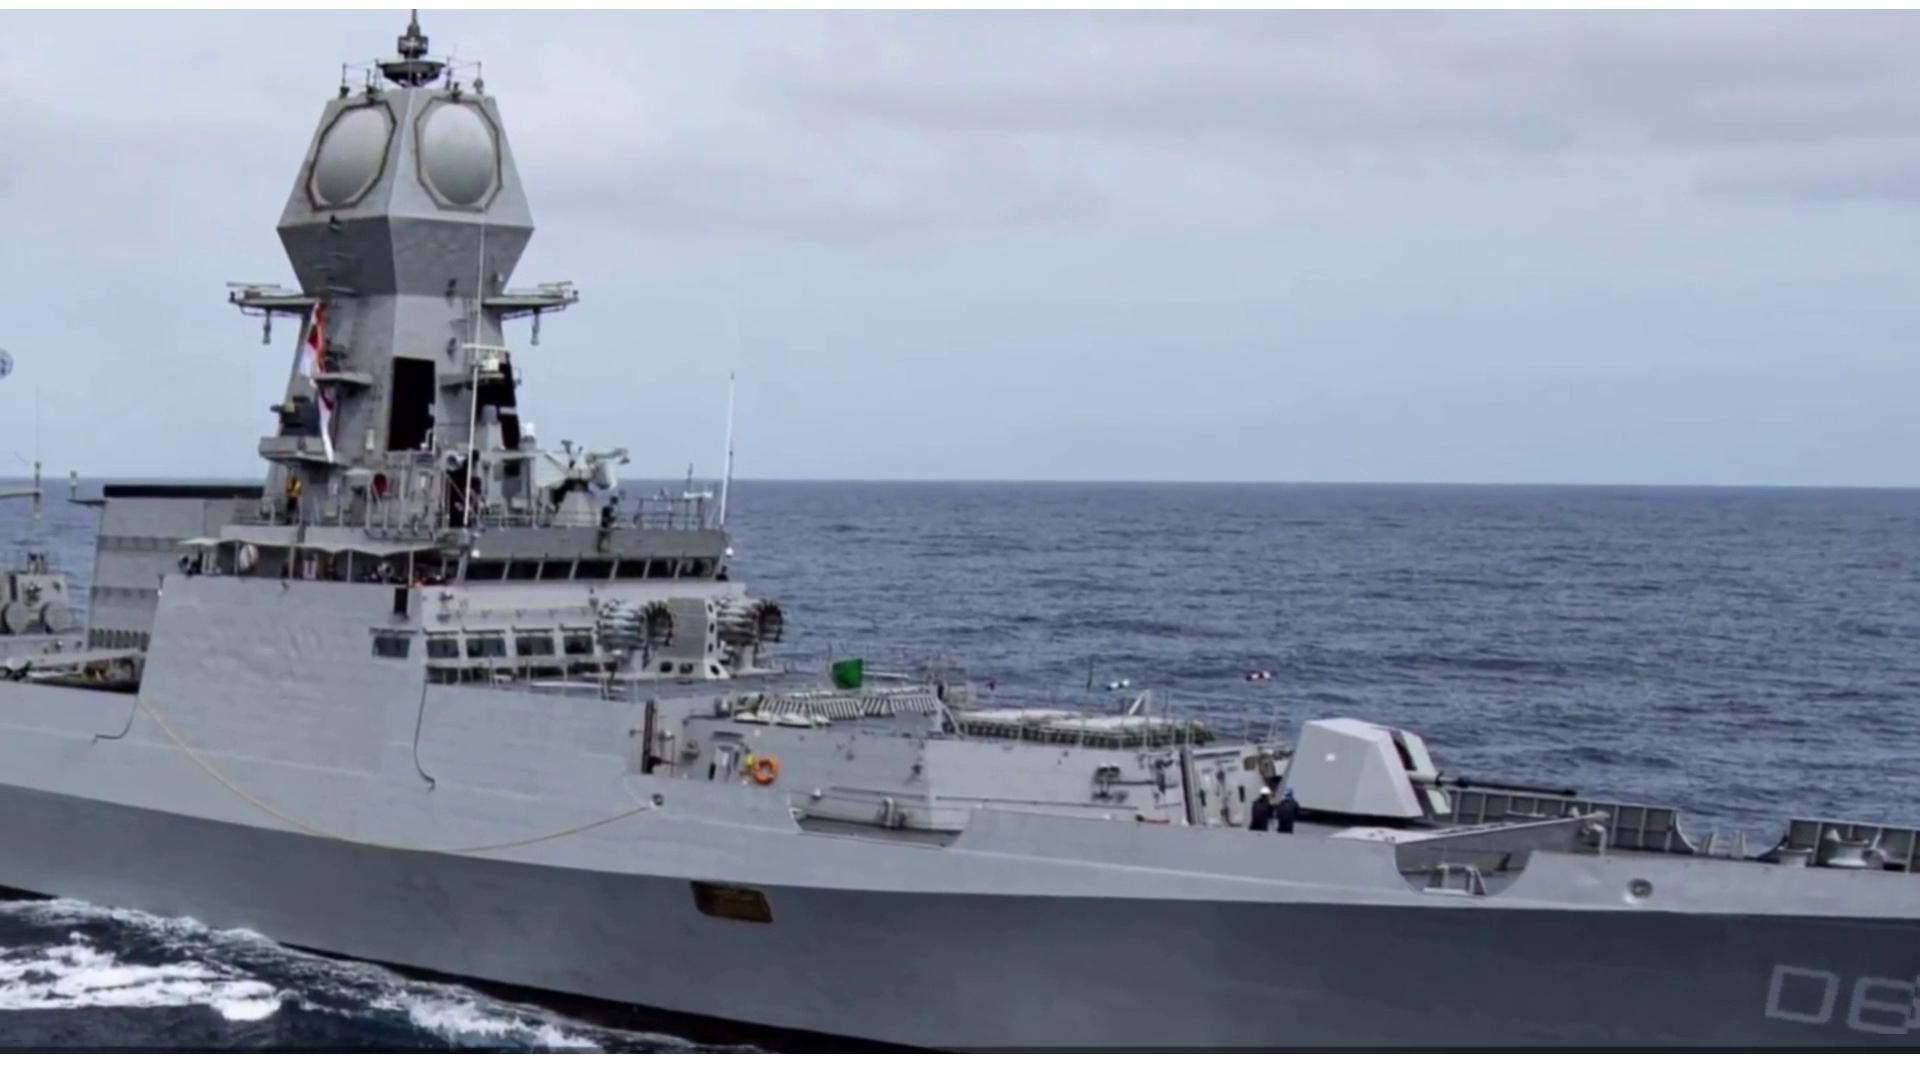OCR: (1765, 952, 1920, 1034)
